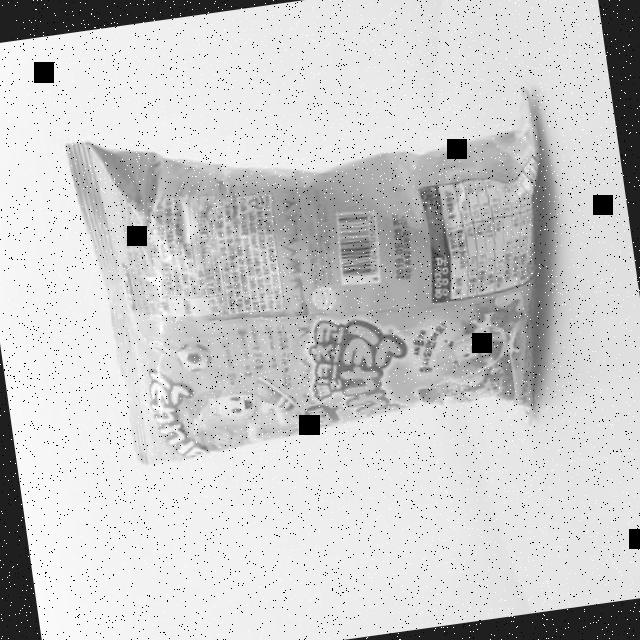snack_bag: (50, 52, 598, 490)
